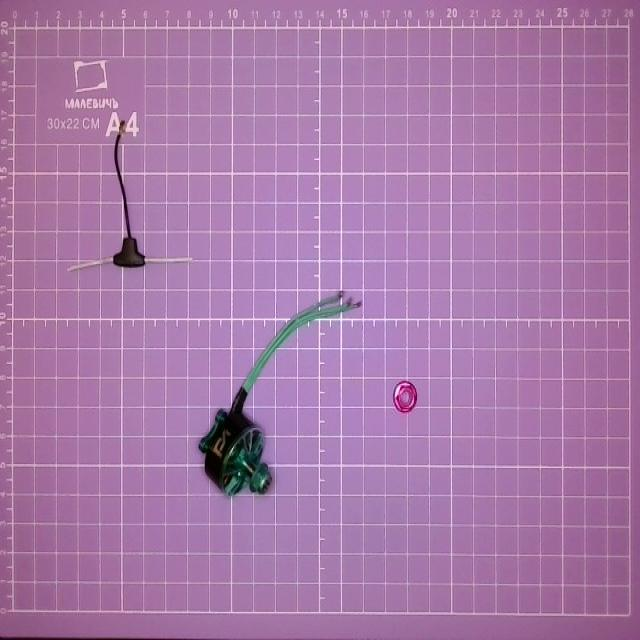antenna: (68, 118, 195, 278)
motor: (200, 286, 358, 497)
screw_M5: (389, 377, 423, 414)
